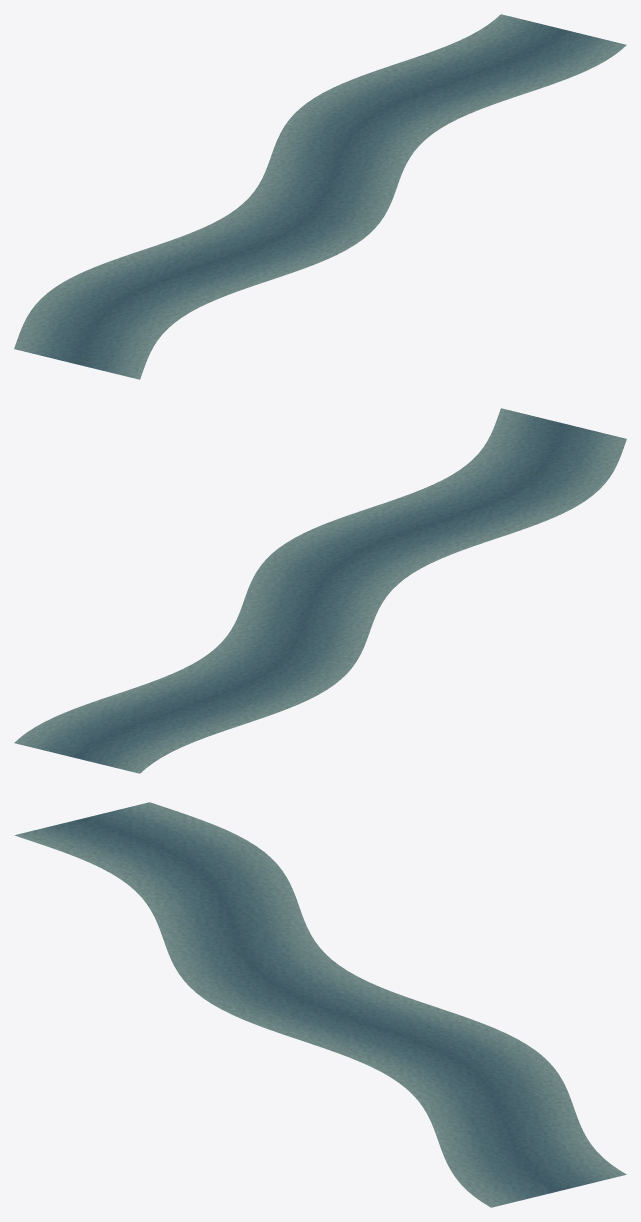
The model's file is river.glb.
The picture shows the model from 3 angles, top to bottom: view 1: azimuth 30°, elevation 25°; view 2: azimuth 210°, elevation 25°; view 3: azimuth 270°, elevation 25°; orthographic projection. The views are drawn at different scales.
Parts seen in each view (by area): view 1: River; view 2: River; view 3: River.
Part boxes in pixels (x1,y1,x2,y2): River: (14, 14, 626, 379); River: (14, 408, 626, 773); River: (14, 802, 626, 1207).
Bounding box in the file's own units: 66.39 × 0 × 42.4.
Materials: 1 (1 with a texture image).
